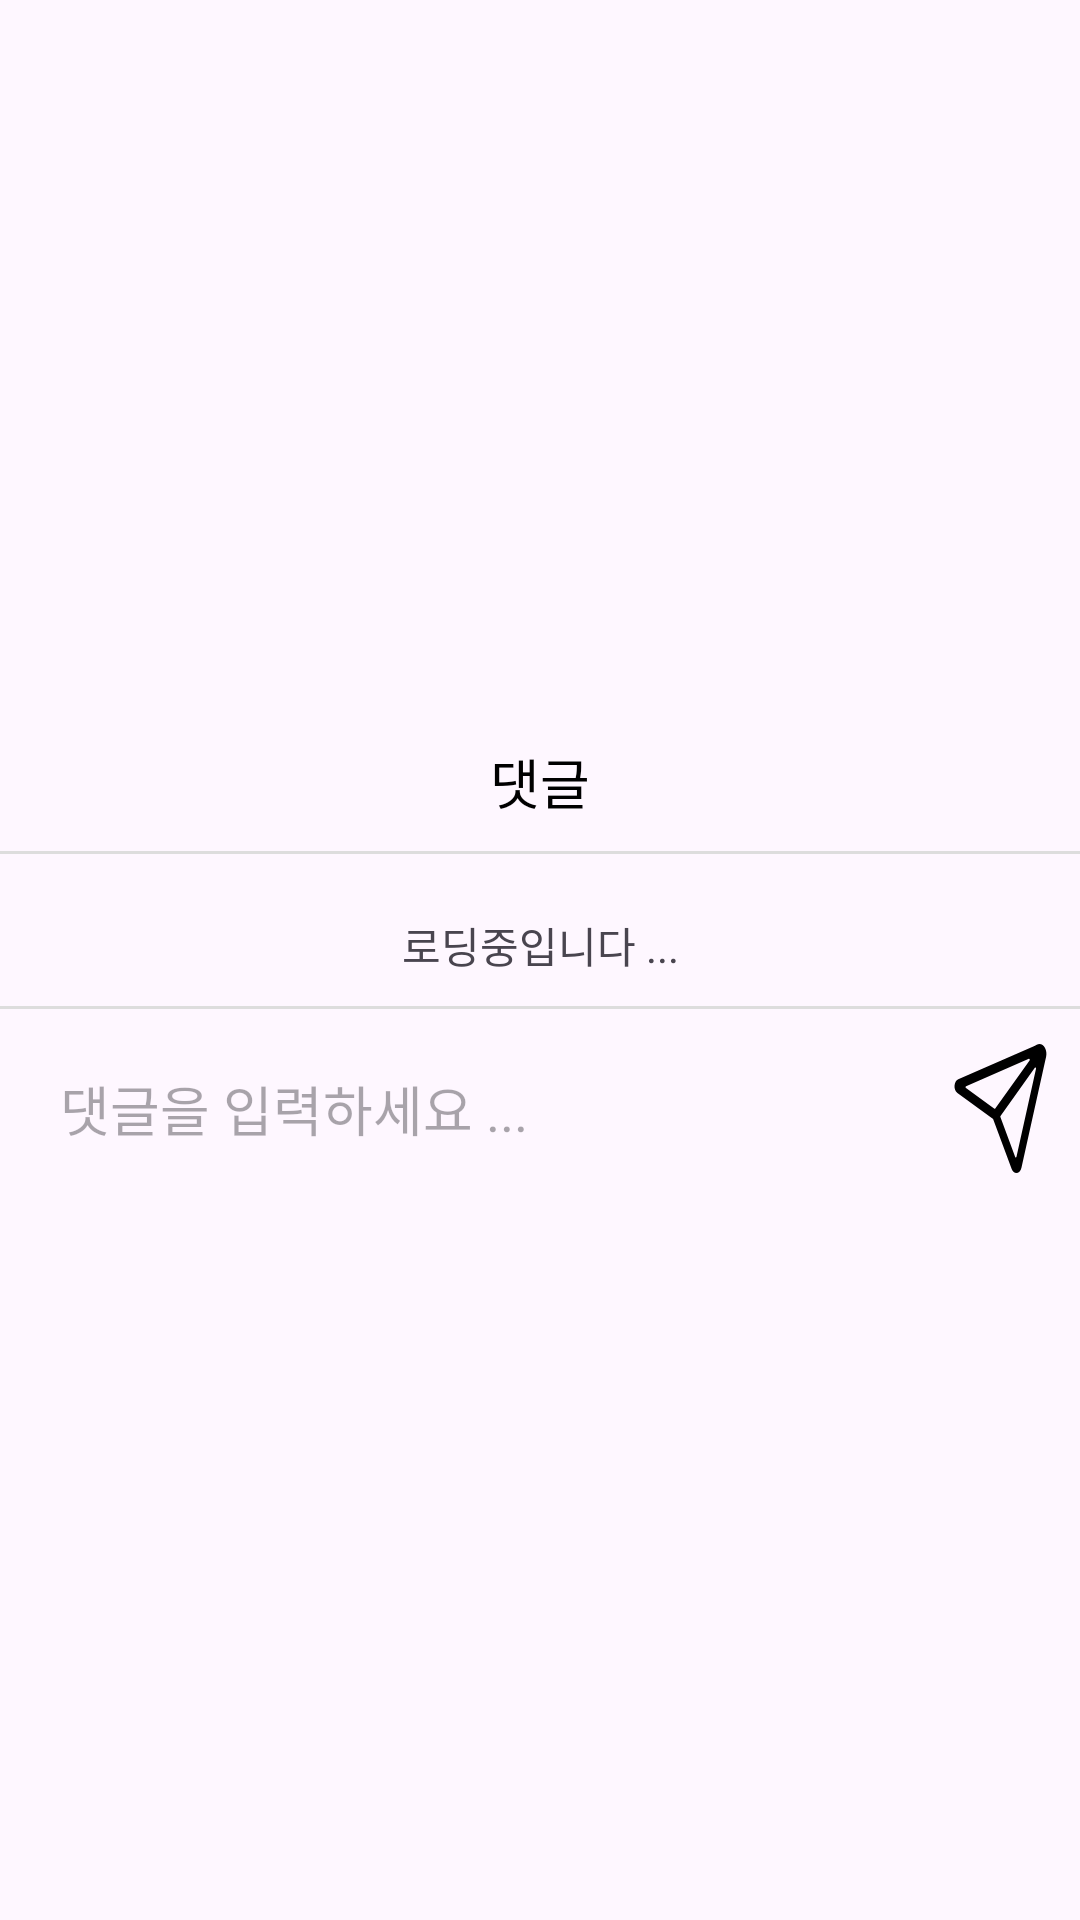

Icon click points for this 1080 × 1920 phone screenshot, format (x=x, y=y):
post comment: (x=1000, y=1108)
